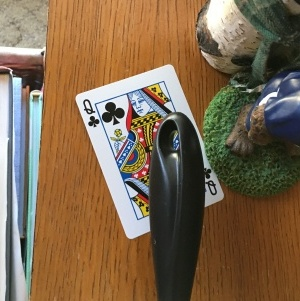card: (74, 61, 226, 240)
